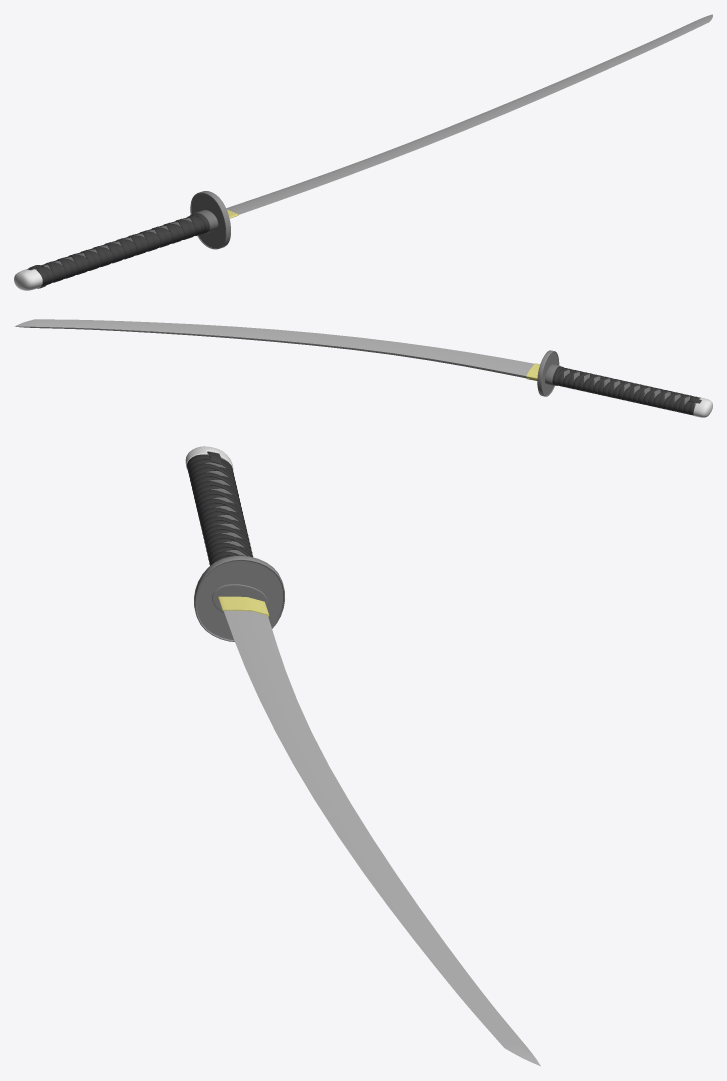
File: katana.glb
3 renders of one model, top to bottom at view 1: azimuth 30°, elevation 25°; view 2: azimuth 150°, elevation 25°; view 3: azimuth 270°, elevation 25°, orthographic. The views are drawn at different scales.
Visible parts, largest first — view 1: Tsuba_low; view 2: Tsuba_low; view 3: Tsuba_low.
Boxes of the visible parts, bbox=[...] form: Tsuba_low: bbox=[14, 14, 712, 290]; Tsuba_low: bbox=[14, 319, 712, 417]; Tsuba_low: bbox=[185, 446, 540, 1066].
Bounding box in the file's own units: 4.28 × 0.2753 × 1.07.
